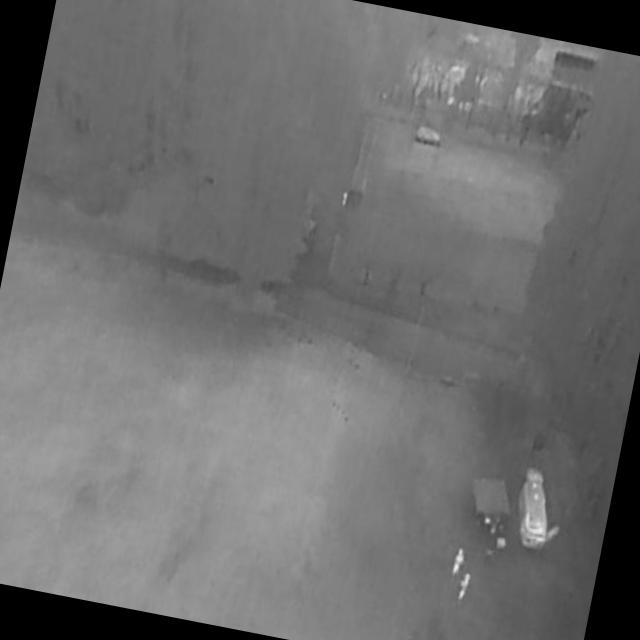person: (456, 572, 473, 604), (452, 548, 467, 578), (341, 192, 350, 210)
